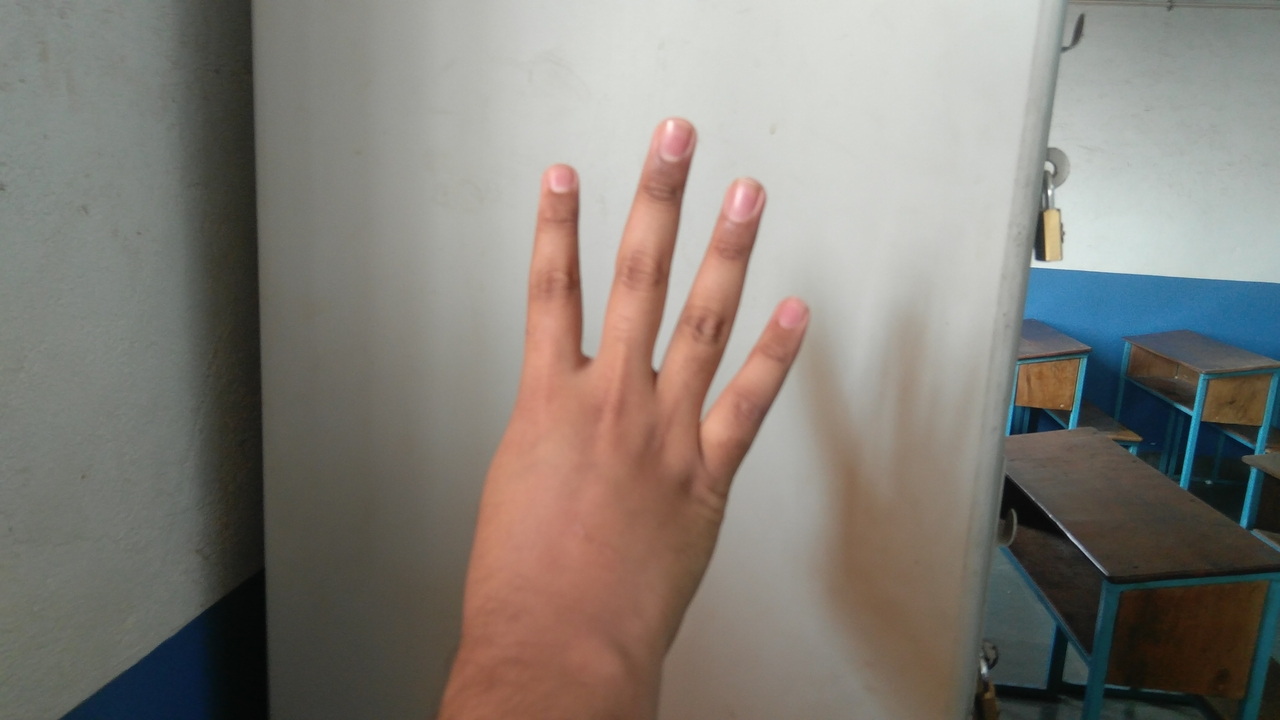fingertip: (710, 164, 774, 230), (756, 284, 822, 344), (638, 110, 704, 166), (528, 150, 586, 202)
